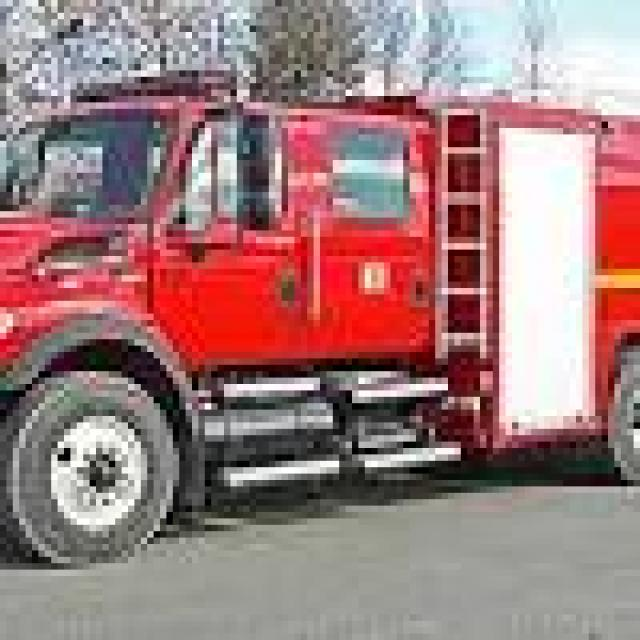pompier: (4, 67, 636, 570)
